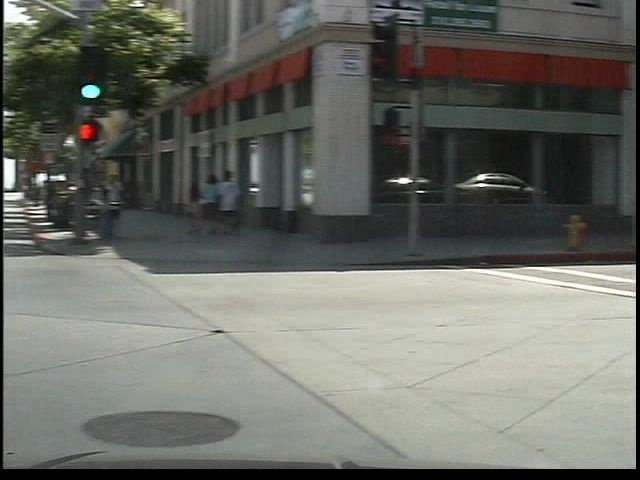person: (114, 168, 142, 223)
